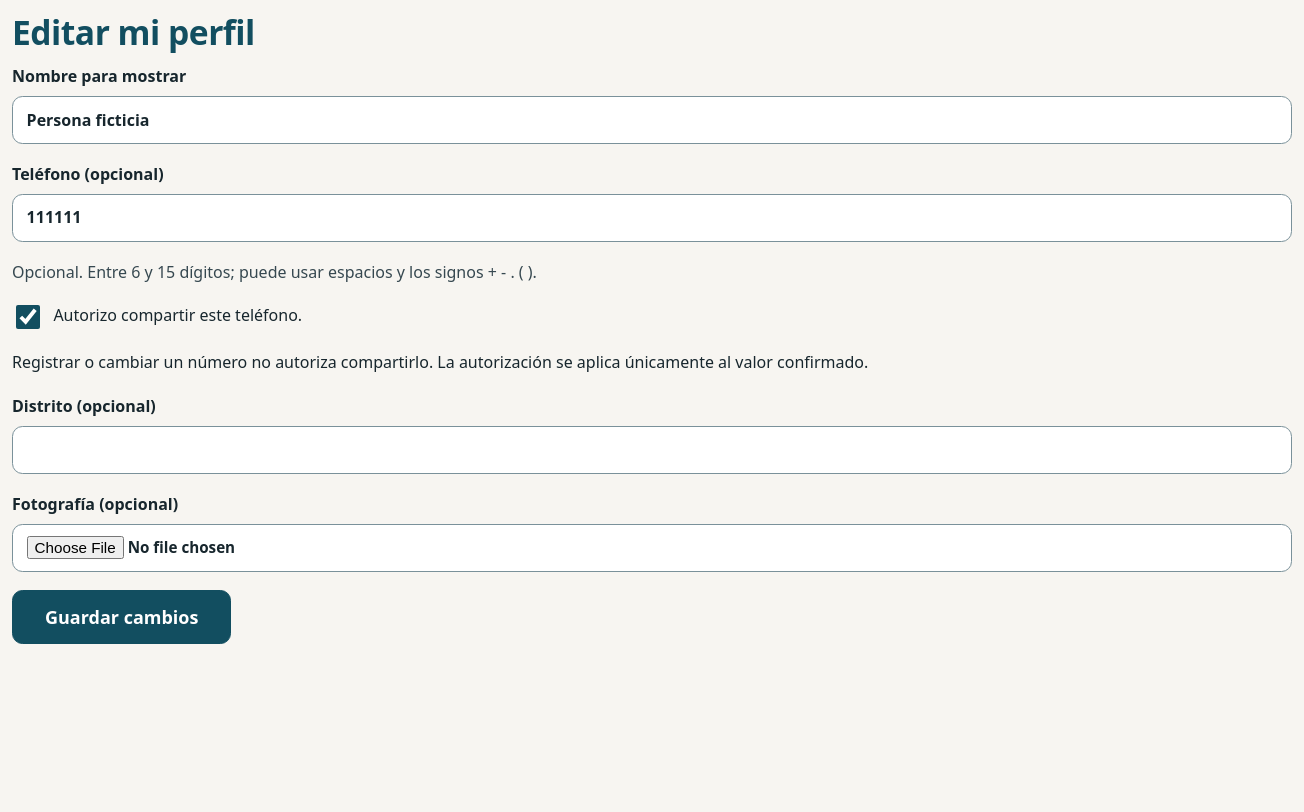
Test: CA-PER-07 teléfono válido 984123456 se envía
Replace the text in the field labelled "Teléfono (opcional)" with "984123456": point(652, 218) [12, 194, 1292, 242]
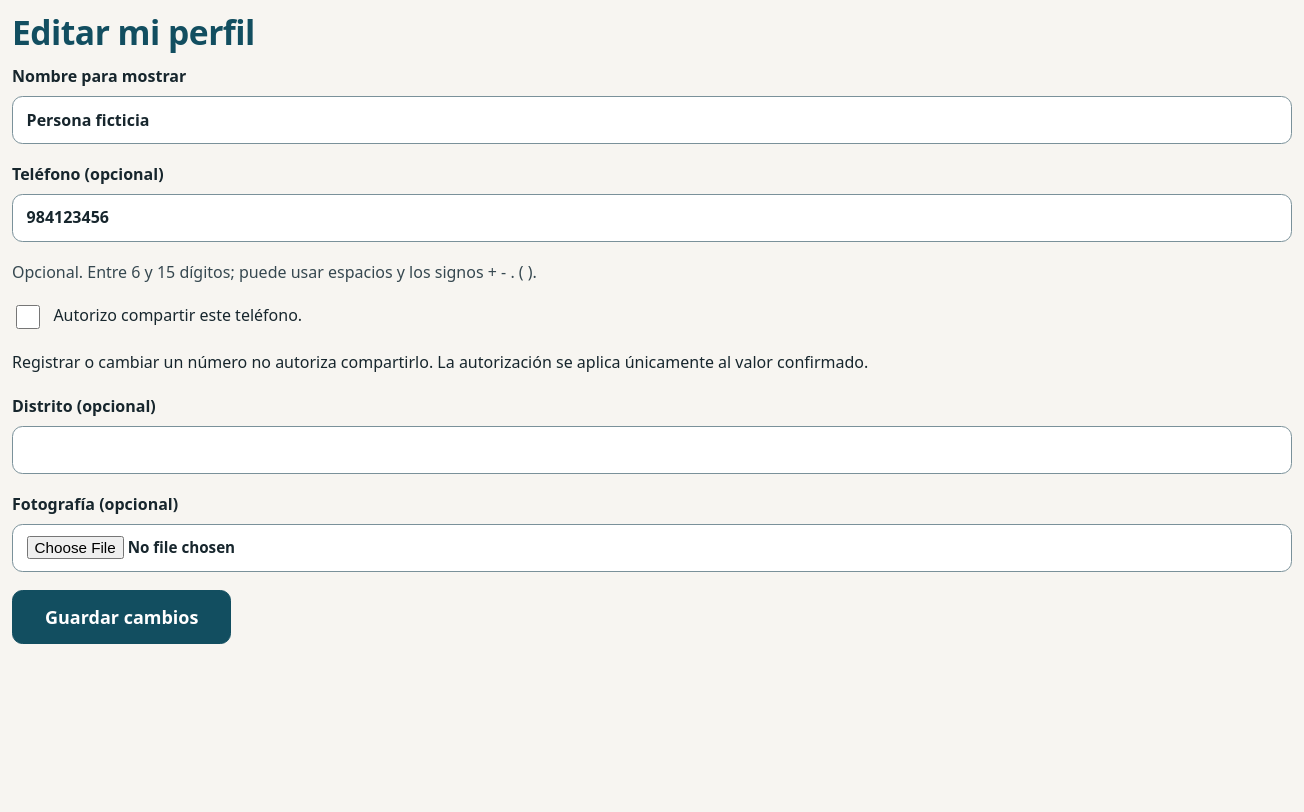
Click the button "Guardar cambios": point(122, 617) [12, 590, 231, 644]
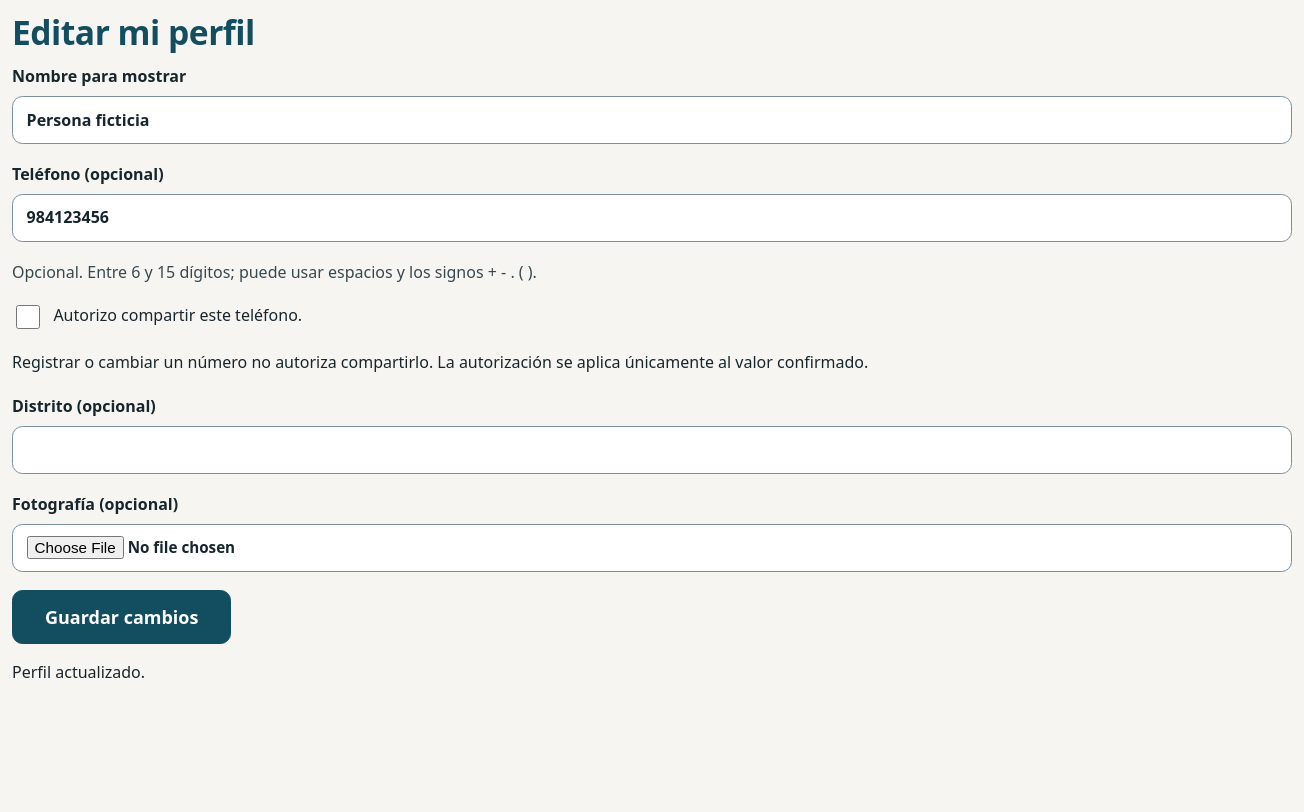
Check: the text "Perfil actualizado." is shown, box [12, 661, 145, 683]
